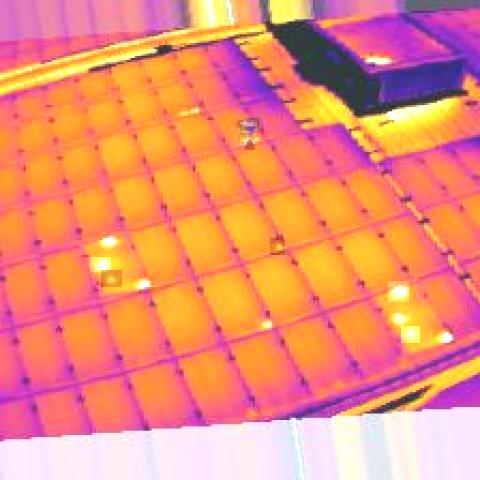fault: (169, 105, 206, 118), (388, 281, 409, 302), (131, 276, 154, 294), (386, 311, 407, 330), (433, 326, 454, 345), (96, 234, 120, 250), (101, 270, 122, 287), (401, 326, 420, 343), (90, 257, 111, 272), (255, 317, 274, 332), (270, 238, 285, 255)
